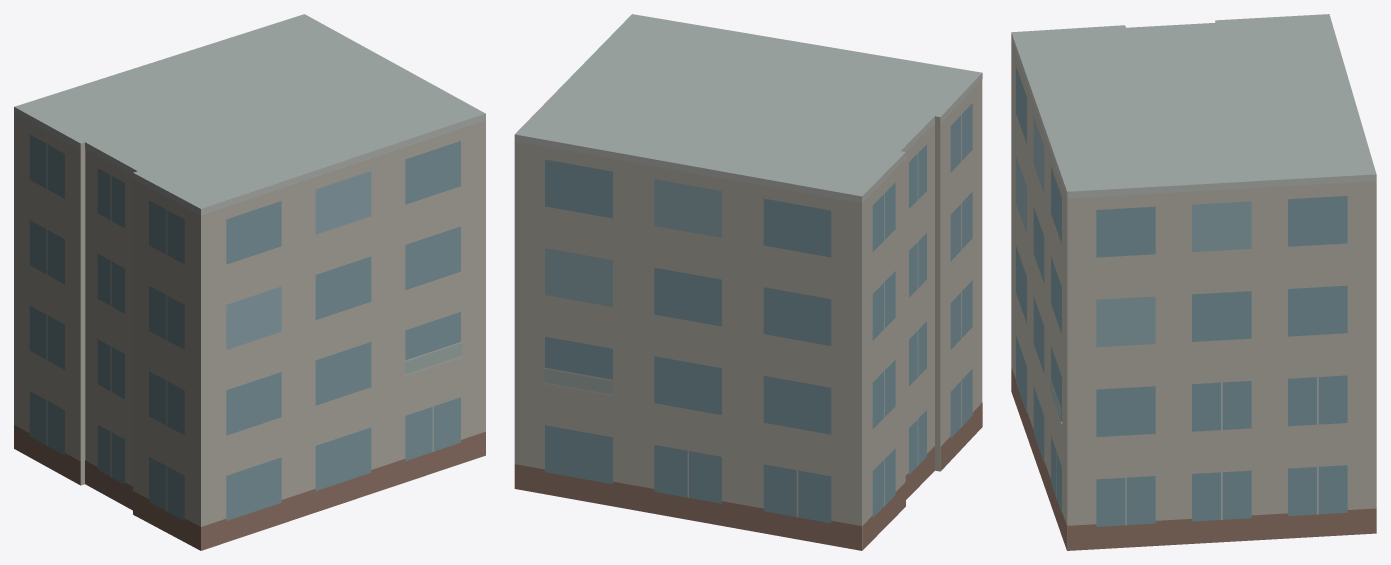
Rendered from survey-upis-32549634.glb.
3 views of the same model, side by side, from view 1: azimuth 30°, elevation 25°; view 2: azimuth 150°, elevation 25°; view 3: azimuth 270°, elevation 25° (orthographic). The views are drawn at different scales.
Visible parts, largest first — view 1: survey-upis-32549634.tmp; view 2: survey-upis-32549634.tmp; view 3: survey-upis-32549634.tmp.
Boxes of the visible parts, x1=… form: survey-upis-32549634.tmp: x1=14, y1=14, x2=485, y2=550; survey-upis-32549634.tmp: x1=514, y1=14, x2=982, y2=550; survey-upis-32549634.tmp: x1=1011, y1=14, x2=1376, y2=550.
Size of the model in its own units: 13.6 by 12.8 by 11.81.
